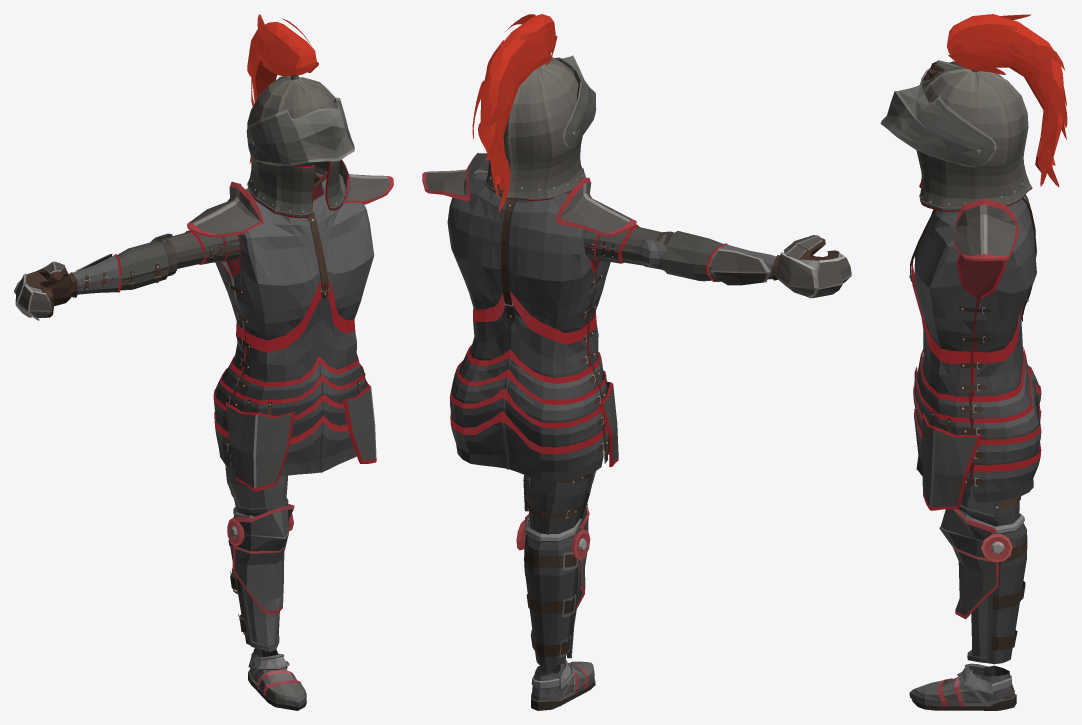
The model's file is heavyArmorFemale.glb.
3 renders of one model, left to right at view 1: azimuth 30°, elevation 25°; view 2: azimuth 150°, elevation 25°; view 3: azimuth 270°, elevation 25°, orthographic. The views are drawn at different scales.
Parts seen in each view (by area): view 1: heavyArmor, heavyArmorLowerLeg, heavyArmorHelmet, heavyArmorHelmetVisor, heavyArmorLowerArm, heavyArmorHelmetFeathers, heavyArmorHandArm, heavyArmorShoeFootLeg, heavyArmorUpperArm, heavyArmorUpperLeg; view 2: heavyArmor, heavyArmorHelmet, heavyArmorLowerLeg, heavyArmorHelmetFeathers, heavyArmorLowerArm, heavyArmorHandArm, heavyArmorUpperLeg, heavyArmorUpperArm, heavyArmorShoeFootLeg, heavyArmorHelmetVisor; view 3: heavyArmor, heavyArmorHelmet, heavyArmorLowerLeg, heavyArmorHelmetFeathers, heavyArmorHelmetVisor, heavyArmorShoeFootLeg, heavyArmorUnderShirt.001, heavyArmorUpperLeg, heavyArmorHandArm.
Part boxes in pixels (bbox=[...]): heavyArmor: bbox=[187, 159, 393, 491]; heavyArmorLowerLeg: bbox=[227, 503, 294, 651]; heavyArmorHelmet: bbox=[247, 75, 345, 218]; heavyArmorHelmetVisor: bbox=[246, 97, 354, 165]; heavyArmorLowerArm: bbox=[73, 240, 177, 294]; heavyArmorHelmetFeathers: bbox=[247, 14, 318, 163]; heavyArmorHandArm: bbox=[14, 261, 77, 320]; heavyArmorShoeFootLeg: bbox=[248, 648, 306, 710]; heavyArmorUpperArm: bbox=[150, 230, 239, 268]; heavyArmorUpperLeg: bbox=[225, 452, 288, 516]; heavyArmor: bbox=[422, 153, 636, 481]; heavyArmorHelmet: bbox=[484, 55, 586, 200]; heavyArmorLowerLeg: bbox=[516, 506, 590, 666]; heavyArmorHelmetFeathers: bbox=[472, 14, 557, 211]; heavyArmorLowerArm: bbox=[657, 231, 776, 285]; heavyArmorHandArm: bbox=[771, 235, 851, 298]; heavyArmorUpperLeg: bbox=[523, 471, 595, 534]; heavyArmorUpperArm: bbox=[583, 224, 666, 269]; heavyArmorShoeFootLeg: bbox=[531, 659, 595, 710]; heavyArmorHelmetVisor: bbox=[554, 55, 596, 148]; heavyArmor: bbox=[909, 194, 1041, 510]; heavyArmorHelmet: bbox=[916, 66, 1032, 211]; heavyArmorLowerLeg: bbox=[939, 509, 1027, 664]; heavyArmorHelmetFeathers: bbox=[947, 14, 1067, 187]; heavyArmorHelmetVisor: bbox=[880, 71, 996, 167]; heavyArmorShoeFootLeg: bbox=[909, 663, 1016, 710]; heavyArmorUnderShirt.001: bbox=[958, 255, 1009, 485]; heavyArmorUpperLeg: bbox=[959, 485, 1020, 526]; heavyArmorHandArm: bbox=[920, 60, 961, 84].
Bounding box in the file's own units: 1.3 × 2.08 × 0.5067.
